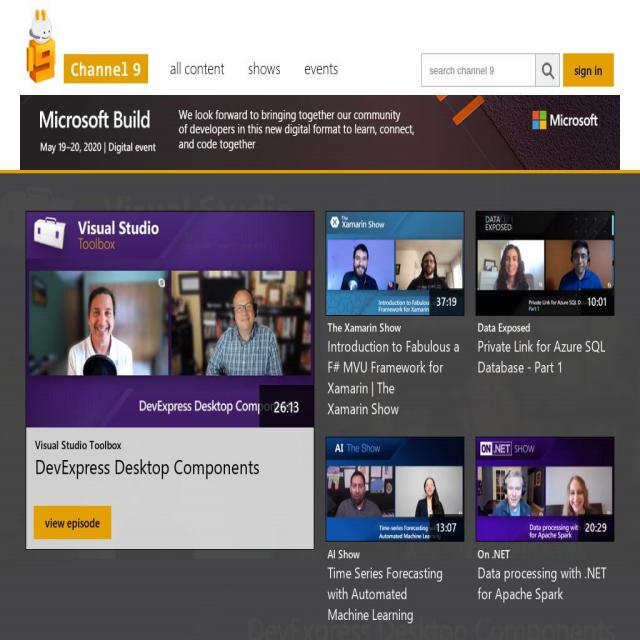login-option: (566, 43, 615, 95)
navigation-blocks: (35, 193, 621, 617)
navigation-links: (158, 54, 346, 88)
search: (416, 45, 564, 90)
video: (26, 185, 626, 640)
